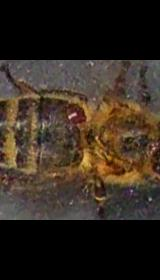varroa_mite: (64, 100, 88, 130)
